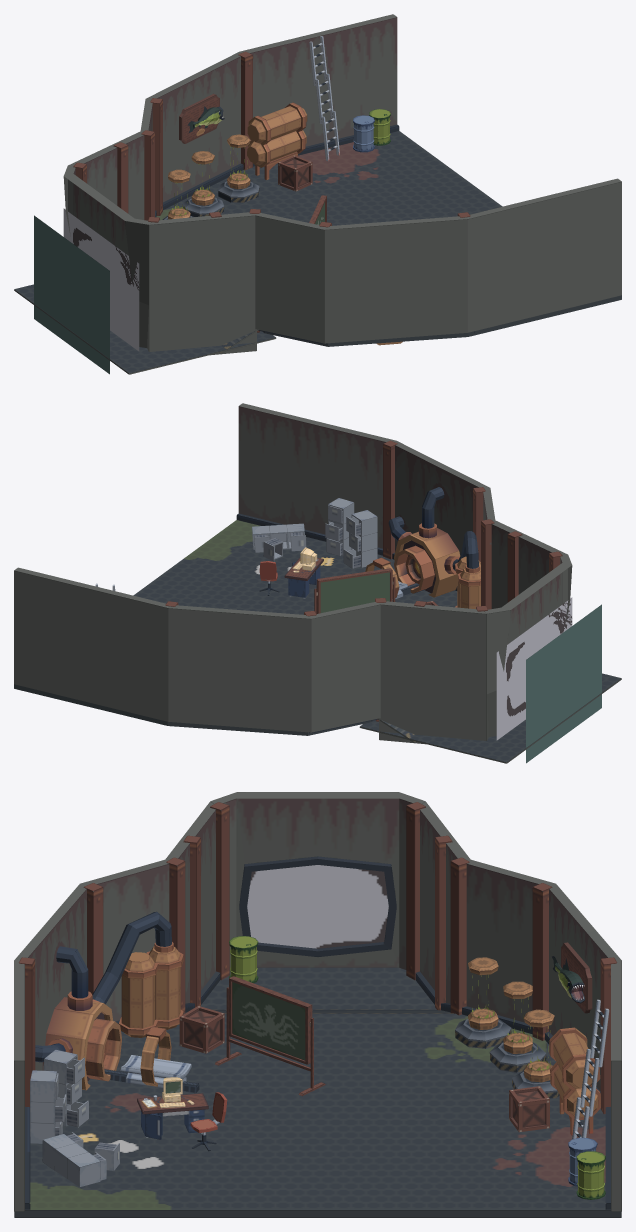
The model's file is labratory (4).fbx.
The picture shows the model from 3 angles, top to bottom: view 1: azimuth 30°, elevation 25°; view 2: azimuth 150°, elevation 25°; view 3: azimuth 270°, elevation 25°; orthographic projection. The views are drawn at different scales.
Parts seen in each view (by area): view 1: pCube92, pCube93, pCube7, pCube3, group26_6, pCube12, pPlane2, group26_7, pCube1, pPlane1, group26_1, pCube5 (+13 smaller); view 2: group26_6, group26_7, pCube92, group26_1, pCube7, group26_3, pPlane2, pCube93, pCube1, pPlane1, pCube3, pCube5 (+12 smaller); view 3: pCube7, pCube1, pPlane1, group26_3, pCube5, group26_7, whiteboard:pCube8, pCube12, pCube93, pCube3, group26_1, pCube92 (+38 smaller).
Part boxes in pixels (box(x1,y1,x2,y2)): pCube92: box(465, 178, 621, 332); pCube93: box(323, 216, 467, 343); pCube7: box(156, 131, 621, 346); pCube3: box(147, 212, 256, 355); group26_6: box(239, 14, 397, 146); pCube12: box(251, 213, 327, 343); pPlane2: box(34, 215, 109, 374); group26_7: box(146, 52, 240, 202); pCube1: box(63, 165, 151, 347); pPlane1: box(63, 208, 139, 351); group26_1: box(68, 131, 144, 219); pCube5: box(14, 284, 276, 374); group26_6: box(14, 567, 170, 721); group26_7: box(168, 605, 311, 732); pCube92: box(238, 403, 396, 548); group26_1: box(379, 601, 488, 744); pCube7: box(14, 520, 457, 735); group26_3: box(309, 602, 383, 732); pPlane2: box(526, 604, 601, 763); pCube93: box(395, 441, 489, 555); pCube1: box(484, 554, 572, 736); pPlane1: box(496, 597, 572, 740); pCube3: box(491, 520, 567, 608); pCube5: box(359, 673, 621, 763); pCube7: box(14, 1013, 621, 1217); pCube1: box(210, 792, 425, 969); pPlane1: box(247, 865, 388, 948); group26_3: box(466, 859, 555, 1022); pCube5: box(201, 967, 436, 1009); group26_7: box(549, 884, 621, 1090); whiteboard:pCube8: box(229, 976, 312, 1064); pCube12: box(81, 859, 169, 1021); pCube93: box(14, 883, 87, 1070); pCube3: box(164, 801, 215, 1003); group26_1: box(420, 801, 471, 1003); pCube92: box(14, 960, 24, 1211).
Bounding box in the file's own units: 2492 × 784 × 2263.
Materials: 17 (17 with a texture image).
